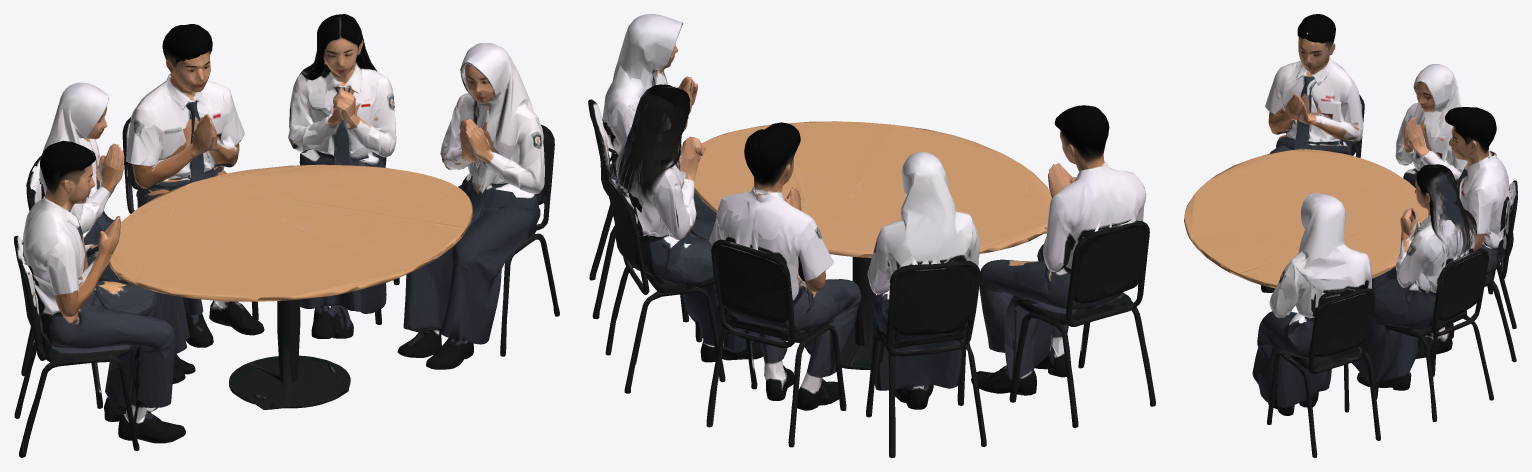
File: 1__Keimanan_dan_Ketakwaan_final.glb
The picture shows the model from 3 angles, left to right: view 1: azimuth 30°, elevation 25°; view 2: azimuth 150°, elevation 25°; view 3: azimuth 270°, elevation 25°; orthographic projection. The views are drawn at different scales.
Visible parts, largest first — view 1: output_unwrapped; view 2: output_unwrapped; view 3: output_unwrapped.
Boxes of the visible parts, <box> form: output_unwrapped: <box>14,14,559,457</box>; output_unwrapped: <box>588,14,1155,457</box>; output_unwrapped: <box>1184,14,1517,457</box>.
Size of the model in its own units: 1.9 by 0.9616 by 1.2.
1 material, 1 textured.
